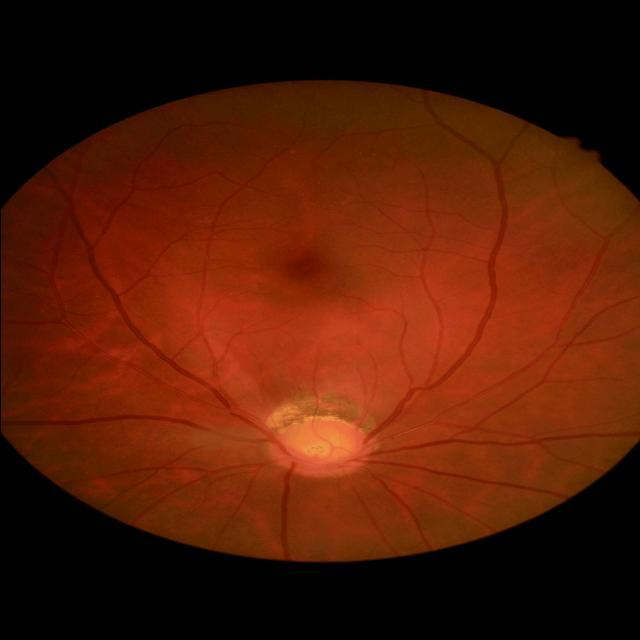cup: (282, 430, 362, 468)
disk: (268, 418, 372, 478)
